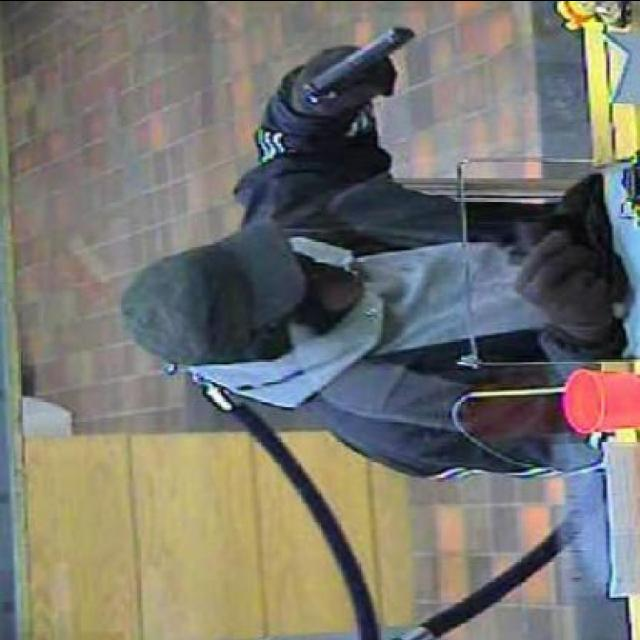pistol: (301, 27, 417, 103)
